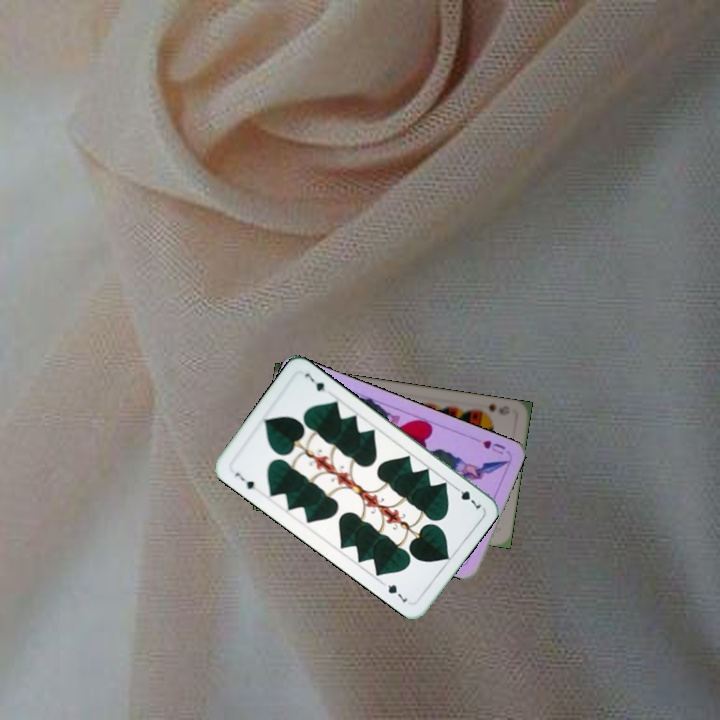G7: (449, 482, 484, 513), (231, 468, 261, 494)
HU: (478, 436, 508, 457)
S9: (474, 399, 499, 417)
